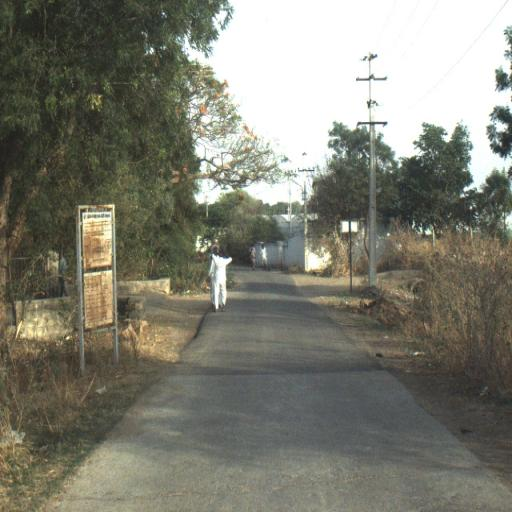street_light_0: (291, 178, 308, 202)
